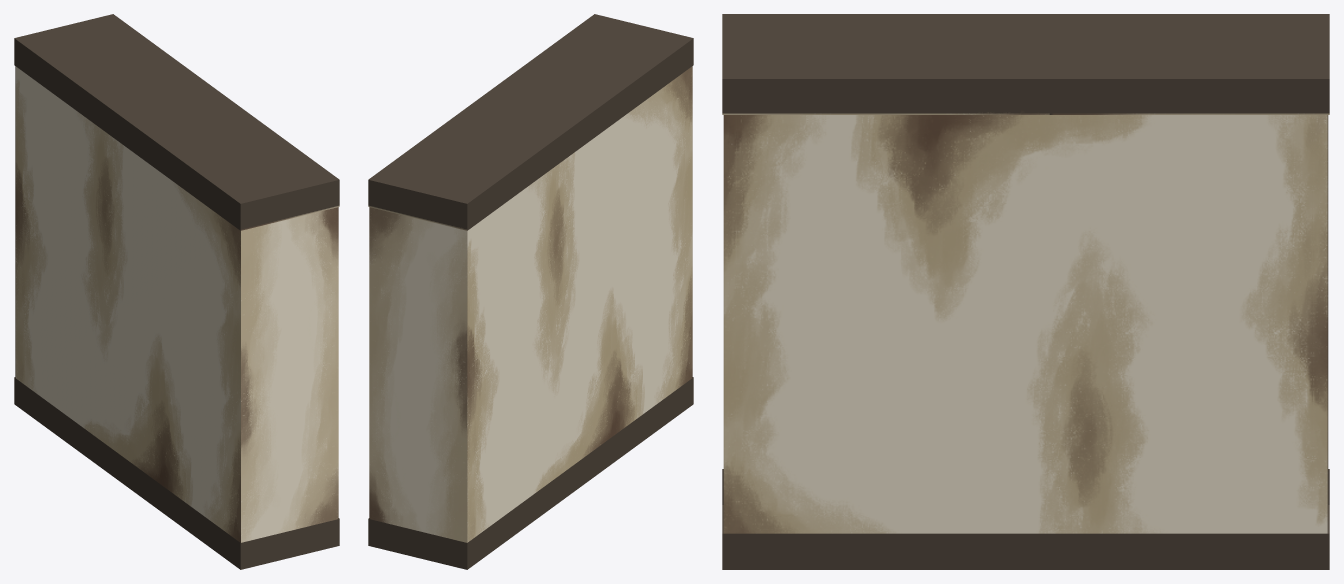
File: dirtywall.obj
3 views of the same model, side by side, from view 1: azimuth 30°, elevation 25°; view 2: azimuth 150°, elevation 25°; view 3: azimuth 270°, elevation 25° (orthographic). The views are drawn at different scales.
Parts seen in each view (by area): view 1: polySurface3; view 2: polySurface3; view 3: polySurface3.
Boxes of the visible parts, x1,y1,x2,y2 form: polySurface3: [14, 14, 339, 569]; polySurface3: [368, 14, 693, 569]; polySurface3: [722, 14, 1329, 569].
Size of the model in its own units: 0.96 by 3.39 by 3.8.
